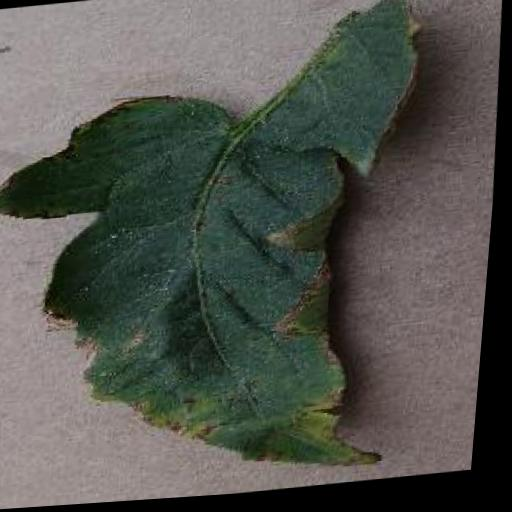Bacterial Spot: (0, 0, 451, 508)
